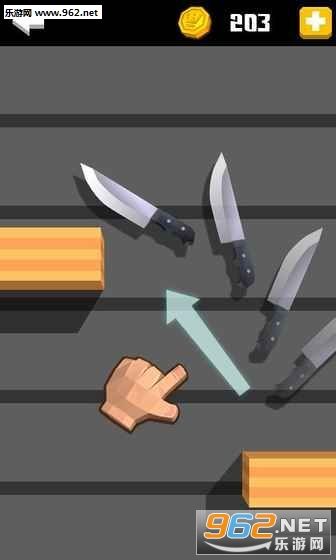knief: (202, 143, 262, 285)
